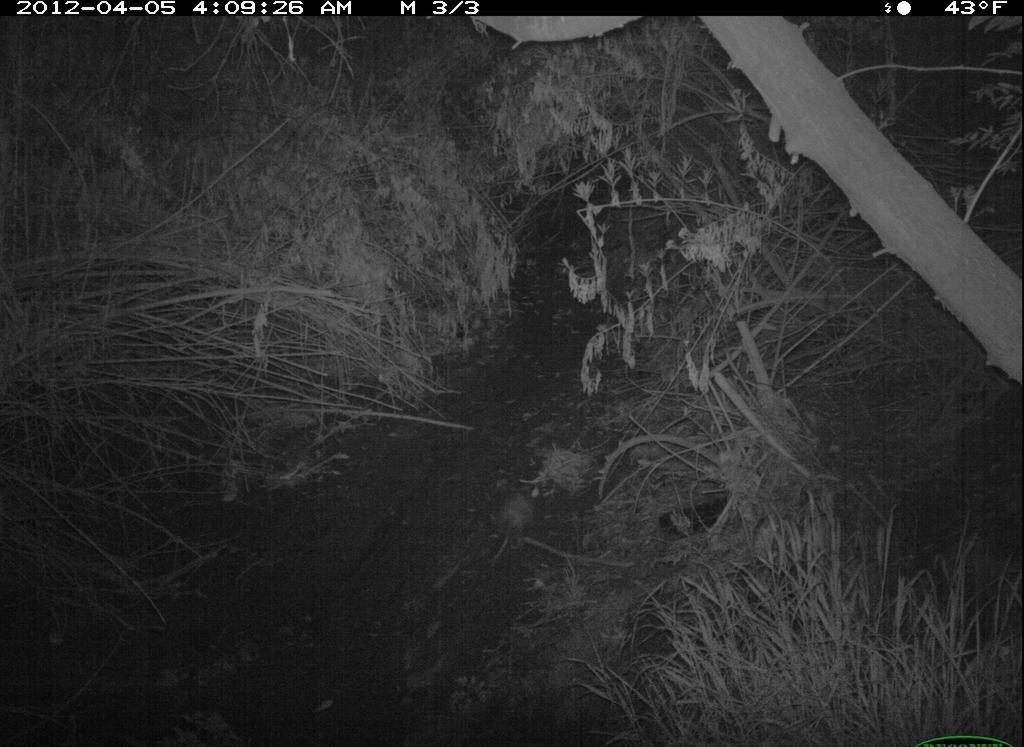opossum: (480, 480, 548, 577)
